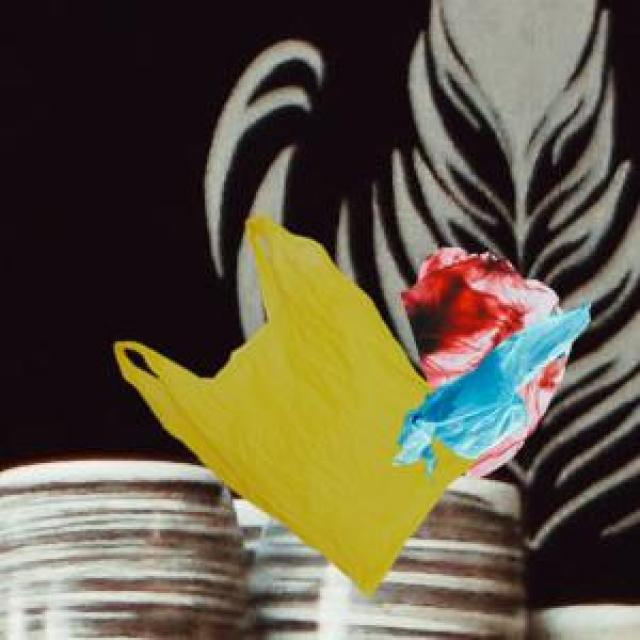plasticcover: (97, 206, 491, 594), (392, 215, 592, 483), (380, 292, 599, 474)
